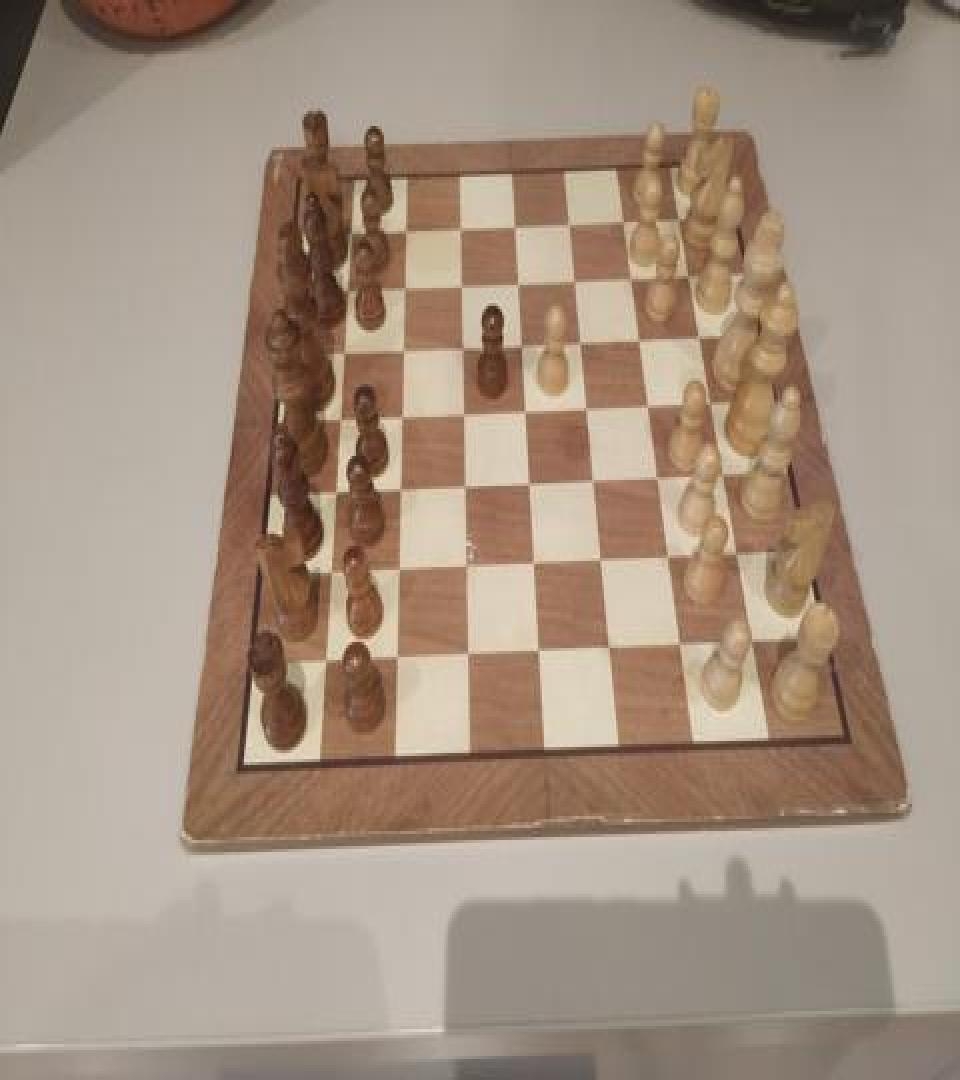xcorner: (520, 466, 538, 494), (649, 460, 667, 488), (454, 394, 472, 422), (639, 388, 657, 416), (393, 328, 411, 356), (571, 322, 589, 350), (337, 268, 355, 296), (508, 262, 526, 290), (395, 208, 413, 236), (613, 202, 631, 230), (313, 648, 331, 675), (386, 645, 404, 672), (459, 640, 477, 667), (602, 634, 620, 661), (673, 630, 691, 657), (743, 627, 761, 654), (319, 557, 337, 584), (457, 551, 475, 578), (593, 545, 611, 572), (728, 538, 746, 565), (324, 474, 342, 501), (390, 471, 408, 498), (455, 470, 473, 497), (713, 459, 731, 486), (329, 399, 347, 426), (391, 397, 409, 424), (516, 393, 534, 420), (578, 390, 596, 417), (700, 386, 718, 413), (333, 331, 351, 358), (453, 327, 471, 354), (630, 321, 648, 348), (394, 267, 412, 294), (451, 266, 469, 293), (565, 261, 583, 288), (677, 258, 695, 285), (340, 210, 358, 237), (450, 207, 468, 234), (559, 204, 577, 231), (667, 201, 685, 228), (531, 638, 549, 664), (388, 554, 406, 580), (525, 548, 543, 574), (660, 542, 678, 568), (585, 464, 603, 490), (512, 326, 530, 352), (688, 320, 706, 346), (621, 260, 639, 286), (505, 206, 523, 232)
